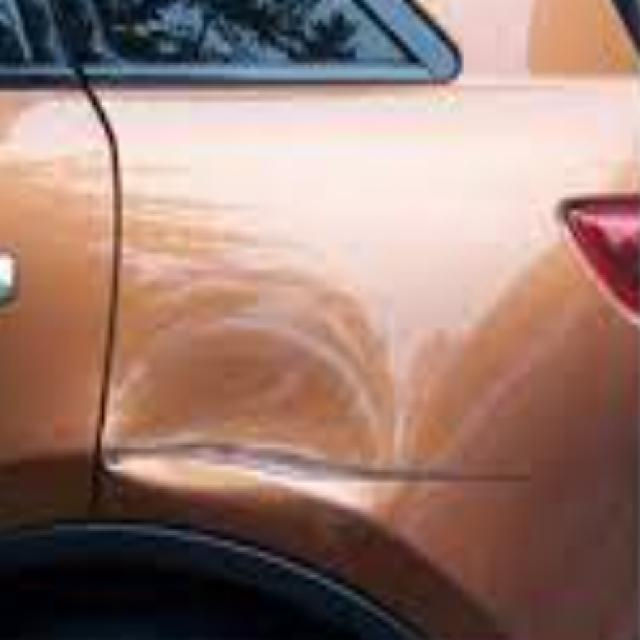dents: (90, 300, 399, 511)
